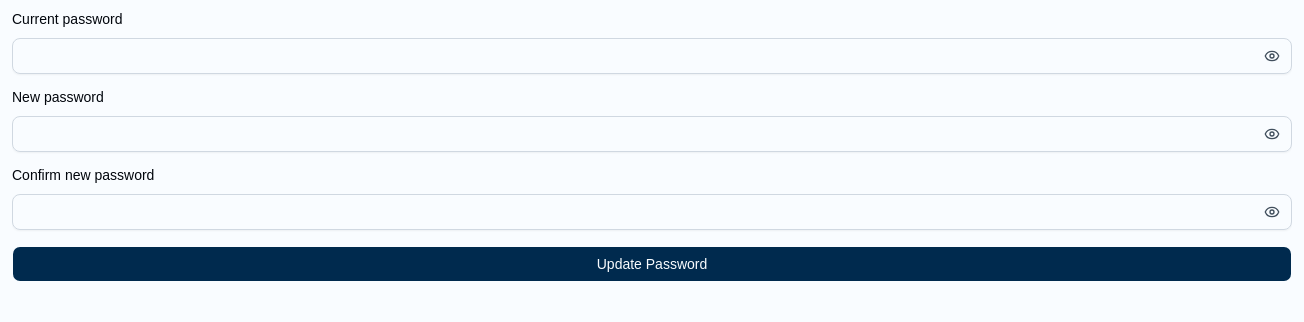
ChangePasswordForm validation › shows password-too-short error for less than 8 characters (CP-002)
Type "OldPass" into the password field labelled "Current password" at (652, 56), box [12,38,1292,74]
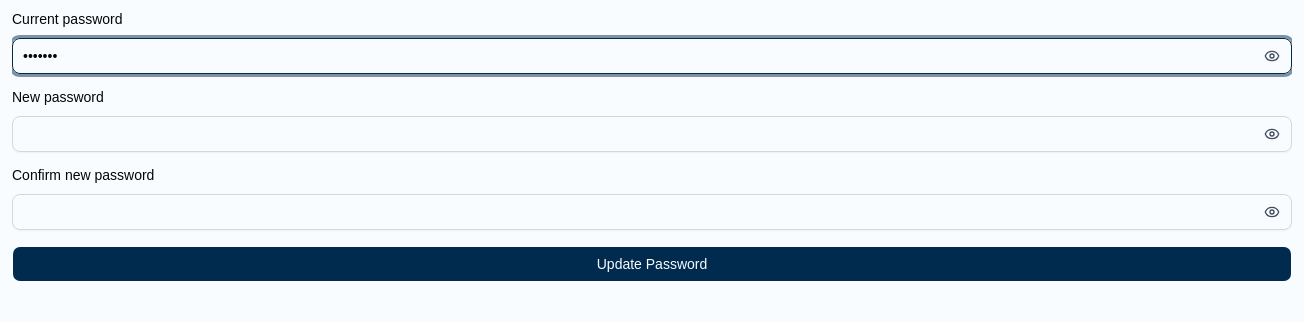
Type "Abc12" into the password field labelled "New password" at (652, 134), box [12,116,1292,152]
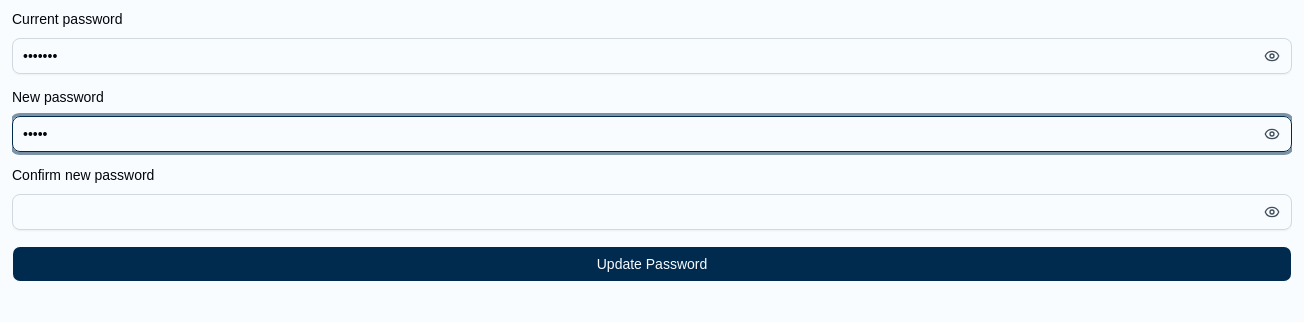
Type "Abc12" into the password field labelled "Confirm new password" at (652, 212), box [12,194,1292,230]
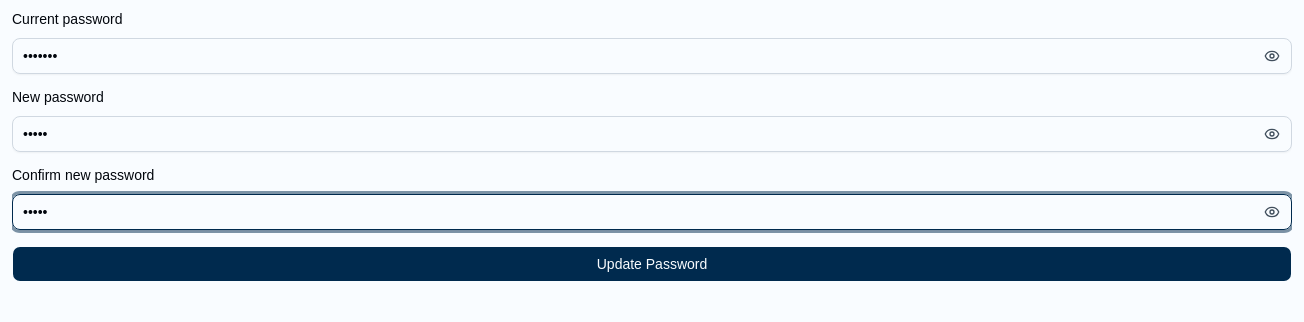
Click the button "Update Password" at (652, 264), box [12,246,1292,282]
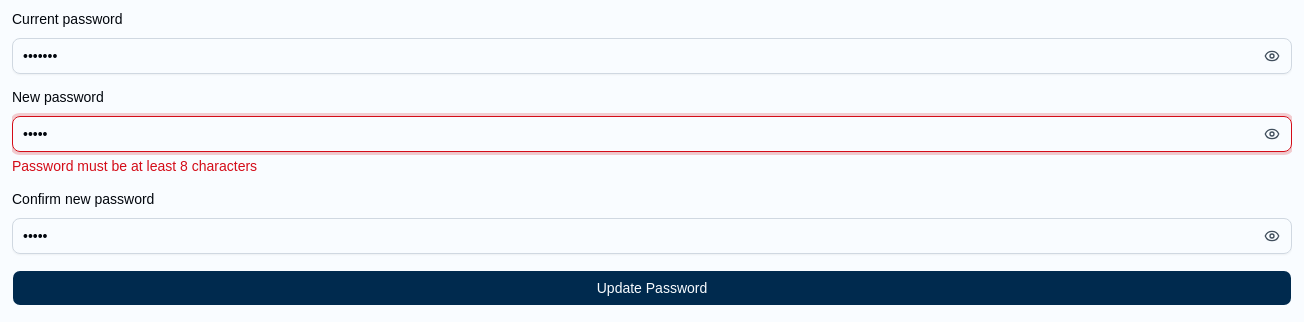
Now the text "Password must be at least 8 characters" is shown, box [12,158,257,174]
